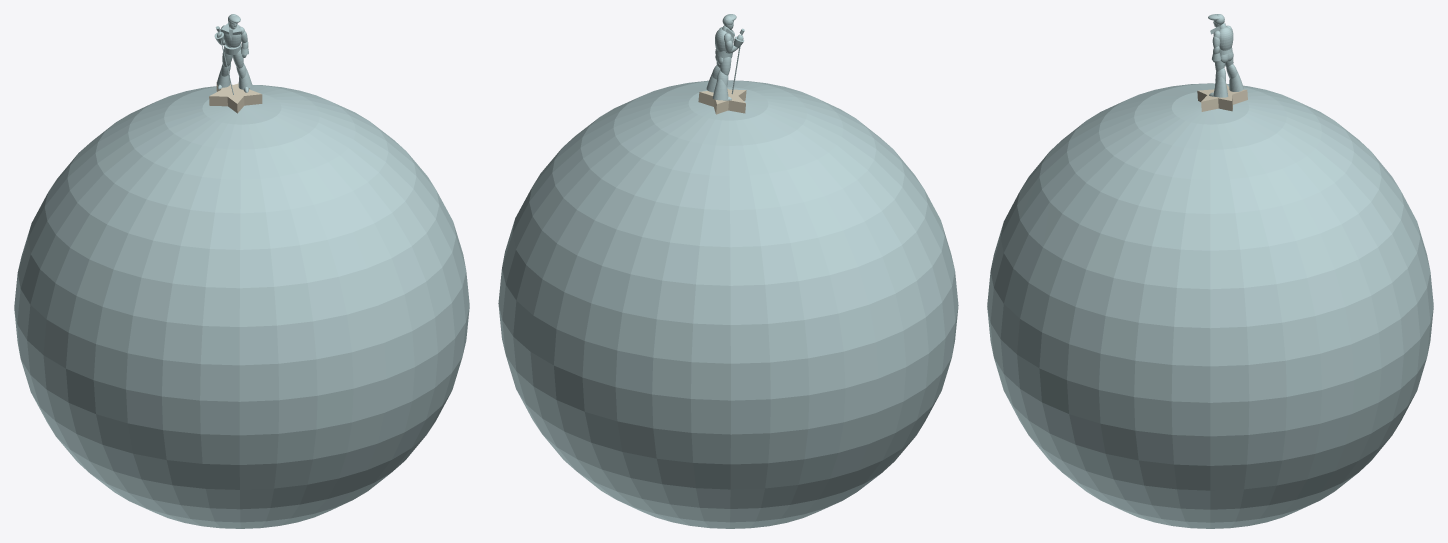
Rendered from asset.glb.
3 renders of one model, left to right at view 1: azimuth 30°, elevation 25°; view 2: azimuth 150°, elevation 25°; view 3: azimuth 270°, elevation 25°, orthographic.
Parts seen in each view (by area): view 1: Mesh_Mesh_head_geo.001_lambert2SG.001; view 2: Mesh_Mesh_head_geo.001_lambert2SG.001; view 3: Mesh_Mesh_head_geo.001_lambert2SG.001.
Part boxes in pixels (x1,y1,x2,y2): Mesh_Mesh_head_geo.001_lambert2SG.001: [14, 14, 469, 528]; Mesh_Mesh_head_geo.001_lambert2SG.001: [498, 14, 958, 528]; Mesh_Mesh_head_geo.001_lambert2SG.001: [987, 14, 1433, 528].
Size of the model in its own units: 207 by 245 by 202.
